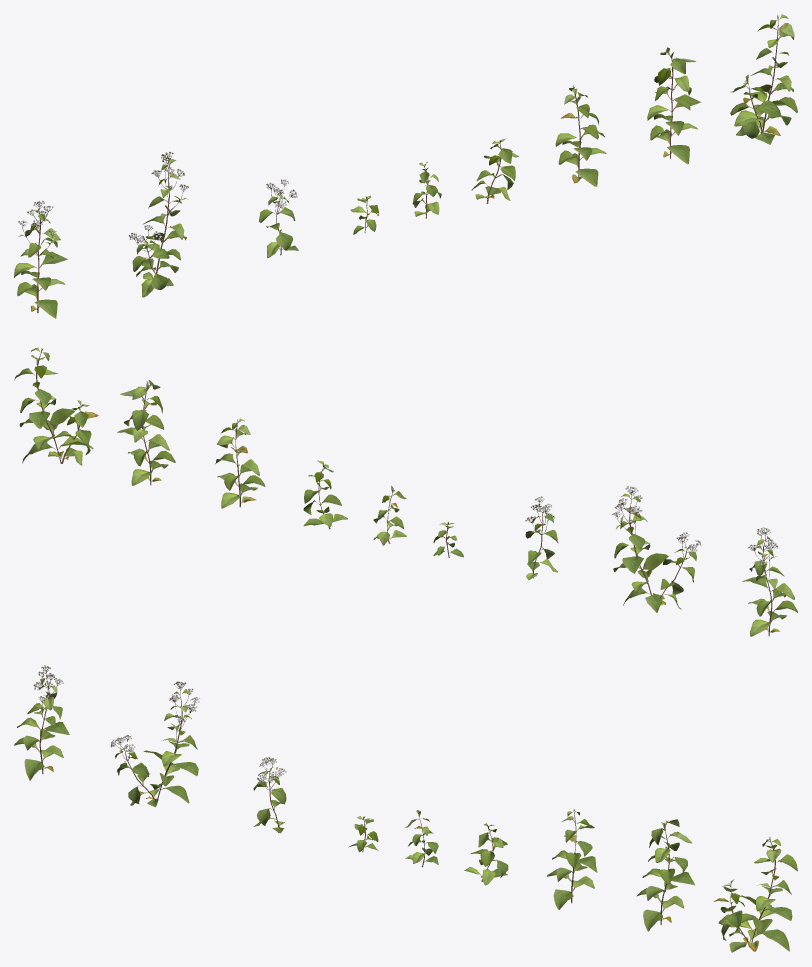
Rendered from ph_shrub_01.glb.
3 views of the same model, one above another, from view 1: azimuth 30°, elevation 25°; view 2: azimuth 150°, elevation 25°; view 3: azimuth 330°, elevation 25° (orthographic). The views are drawn at different scales.
Size of the model in its own units: 2.59 by 0.3949 by 0.2181.
Materials: 1 (1 with a texture image).
